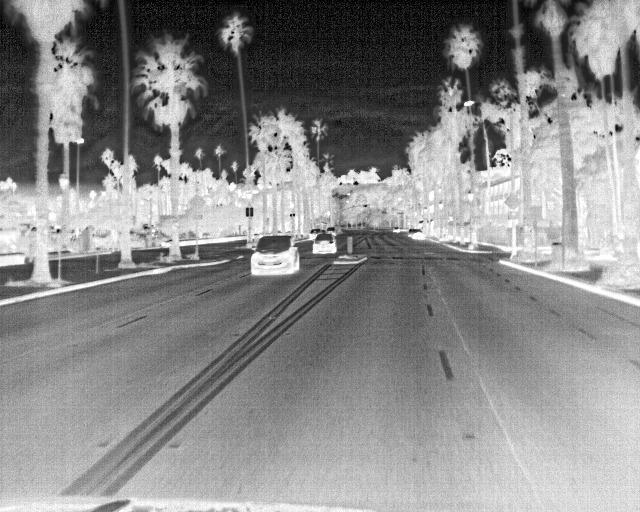car: (250, 233, 300, 278), (312, 232, 340, 258), (410, 230, 426, 240), (325, 225, 338, 237), (390, 224, 400, 235)
